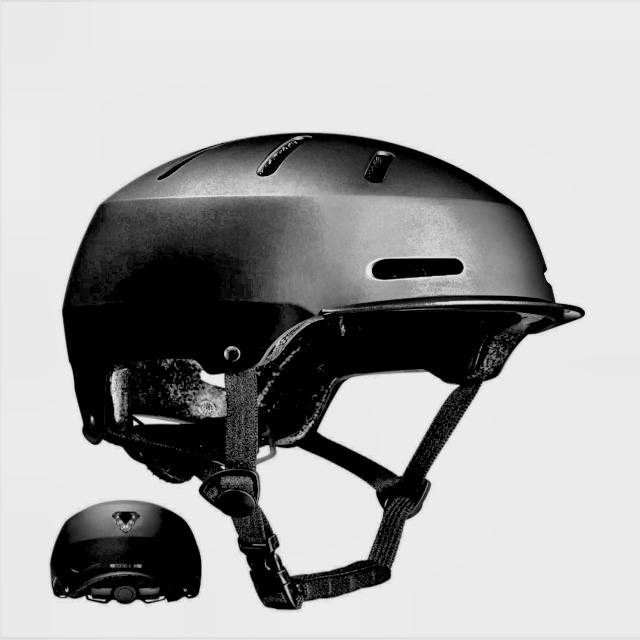Helmet: (30, 114, 590, 618)
